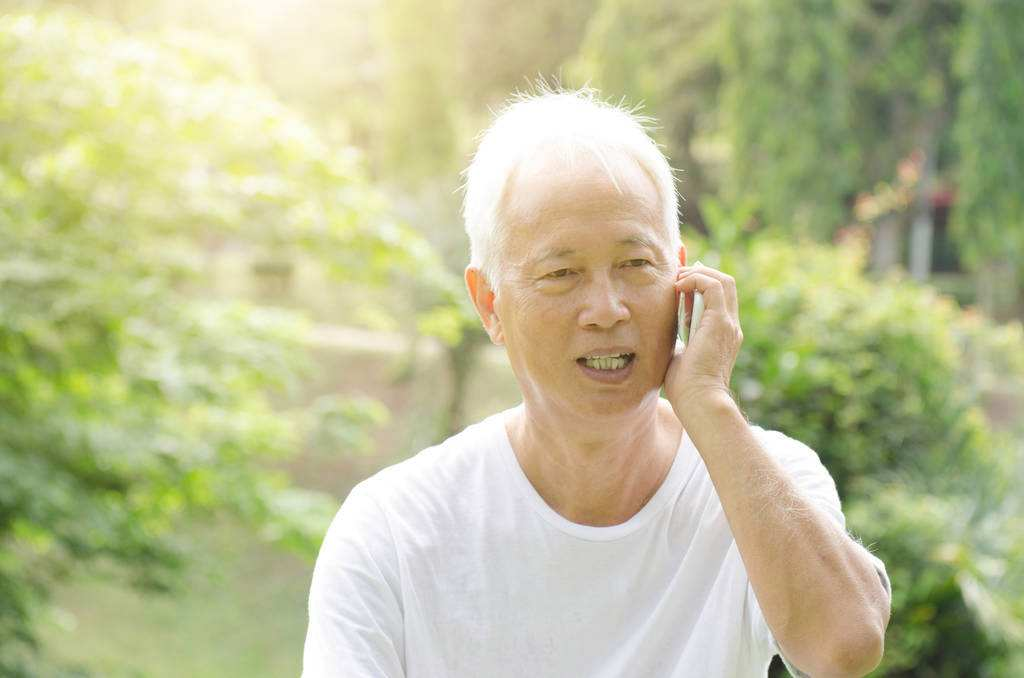calling: (657, 252, 748, 408)
